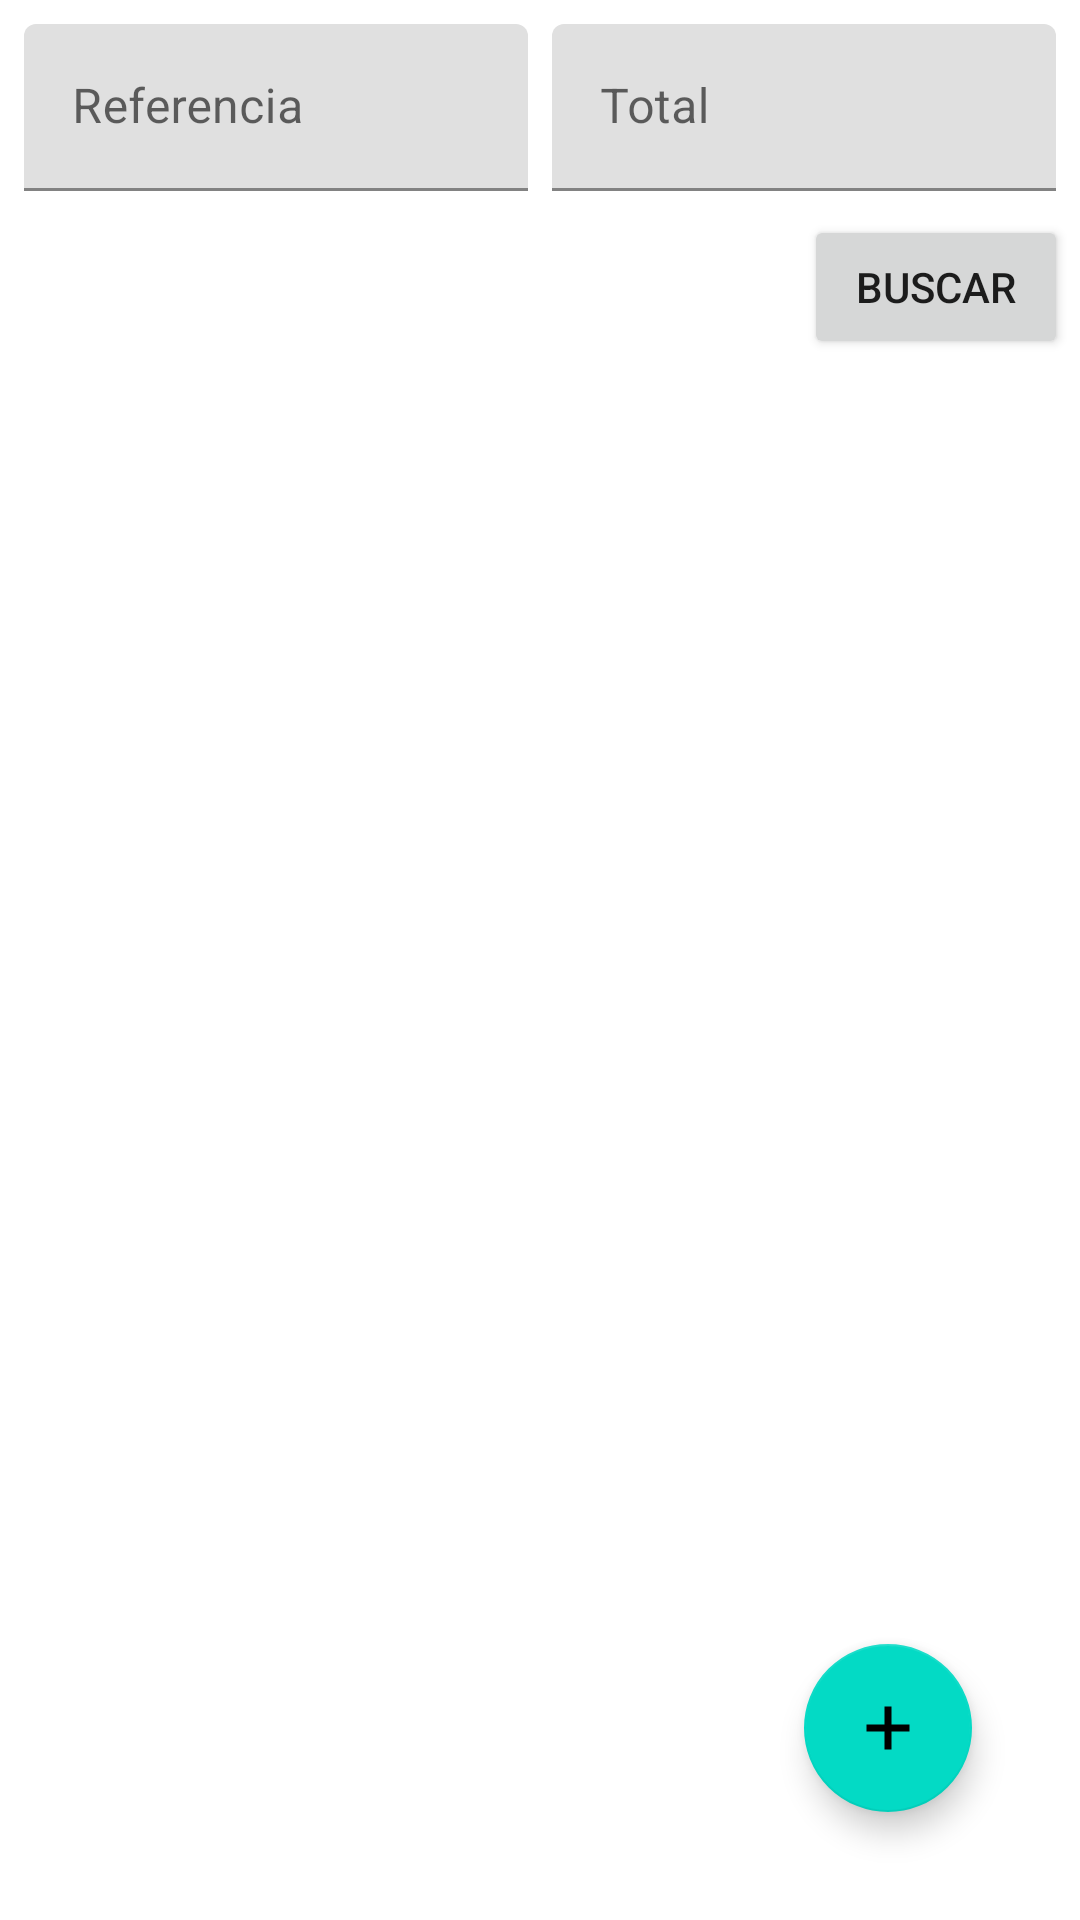

Screen size 1080px×1920px. Icon name, then its center in pixels as (x,y):
Nueva transacción: (888,1728)
